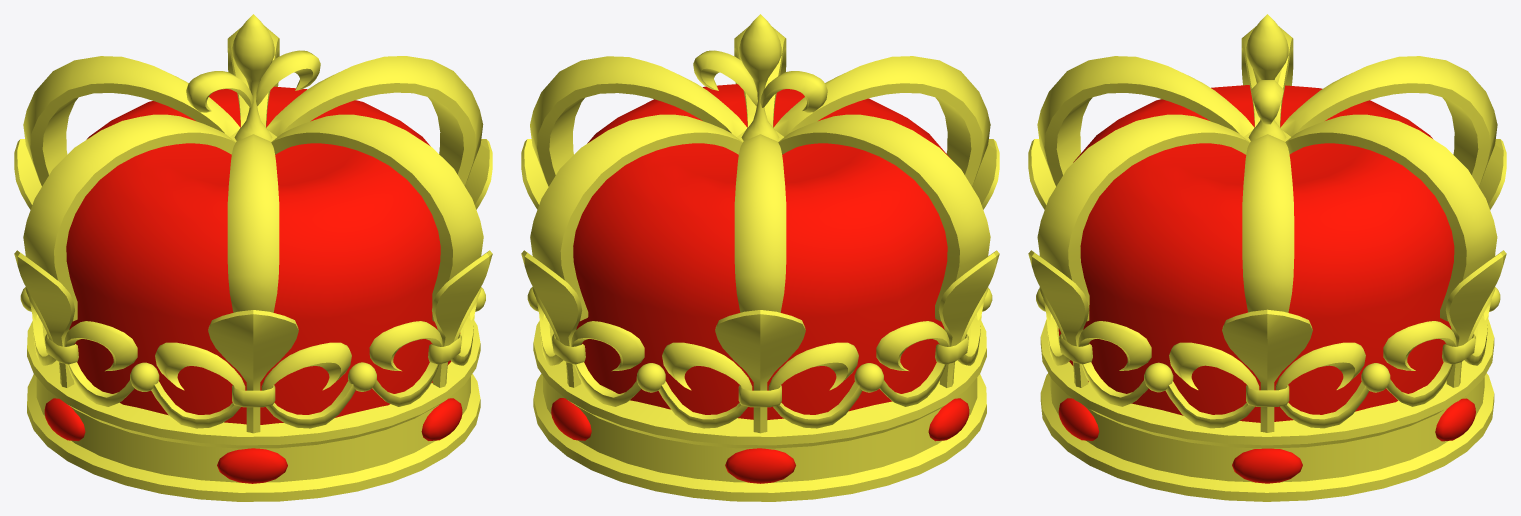
The model's file is Cake_ThemeRoyal_A.FBX.
3 views of the same model, side by side, from view 1: azimuth 30°, elevation 25°; view 2: azimuth 150°, elevation 25°; view 3: azimuth 270°, elevation 25° (orthographic).
Parts seen in each view (by area): view 1: Cake_ThemeRoyal_A; view 2: Cake_ThemeRoyal_A; view 3: Cake_ThemeRoyal_A.
Part boxes in pixels (bbox=[...]): Cake_ThemeRoyal_A: bbox=[14, 14, 492, 501]; Cake_ThemeRoyal_A: bbox=[521, 14, 999, 501]; Cake_ThemeRoyal_A: bbox=[1028, 14, 1506, 501].
Bounding box in the file's own units: 120243 × 95578 × 105694.
